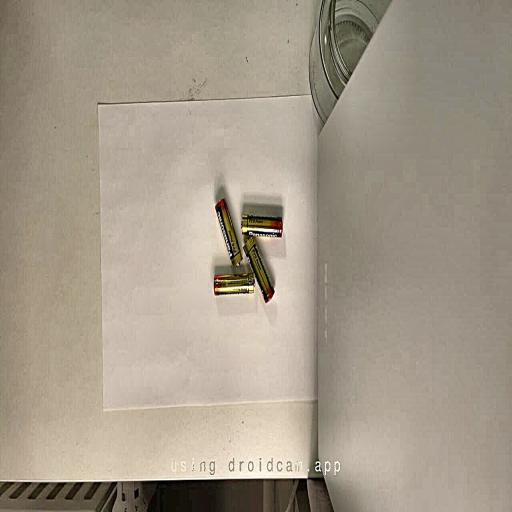PanasonicAA: (244, 237, 274, 302), (216, 198, 242, 267), (241, 213, 282, 238), (214, 273, 254, 295)
